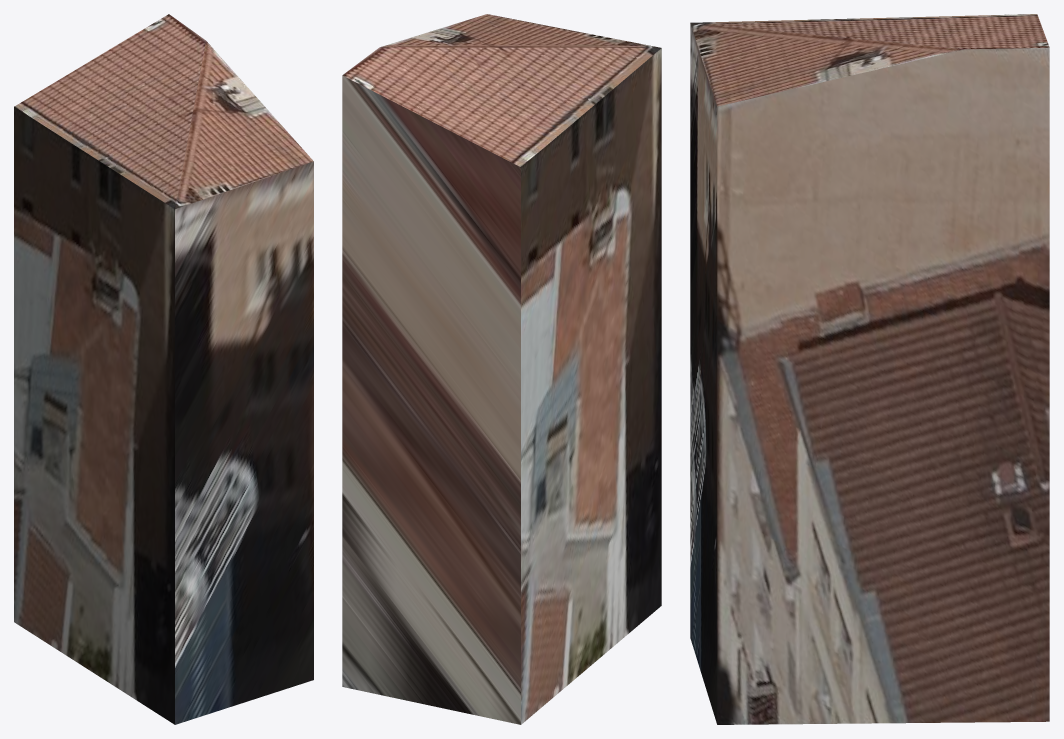
The picture shows the model from 3 angles, left to right: view 1: azimuth 30°, elevation 25°; view 2: azimuth 150°, elevation 25°; view 3: azimuth 270°, elevation 25°; orthographic projection. The views are drawn at different scales.
Visible parts, largest first — view 1: Z_UP; view 2: Z_UP; view 3: Z_UP.
Boxes of the visible parts, x1,y1,x2,y2 form: Z_UP: [14, 14, 313, 724]; Z_UP: [342, 14, 661, 724]; Z_UP: [690, 14, 1049, 724].
Size of the model in its own units: 6.52 by 21.26 by 10.28.
2 materials, 1 textured.
